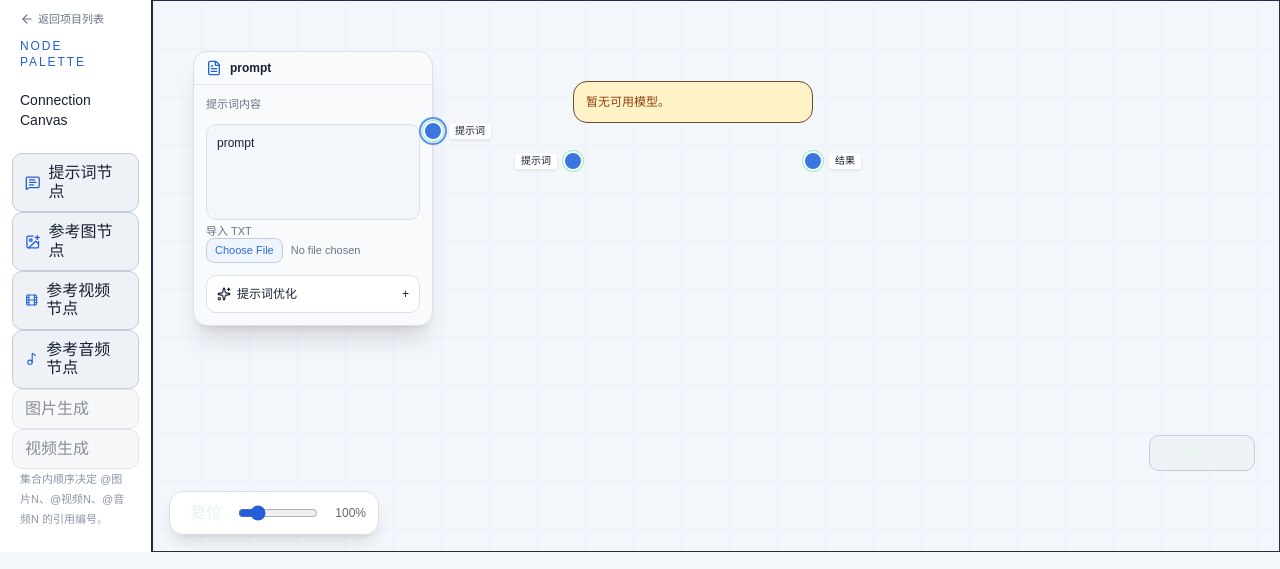
canvas named-port interactions › clears a pending source immediately when the source node is deleted
The image size is (1280, 569).
Click the button with aria-label "prompt：提示词输出端口" at (433, 131), box [423,121,443,141]
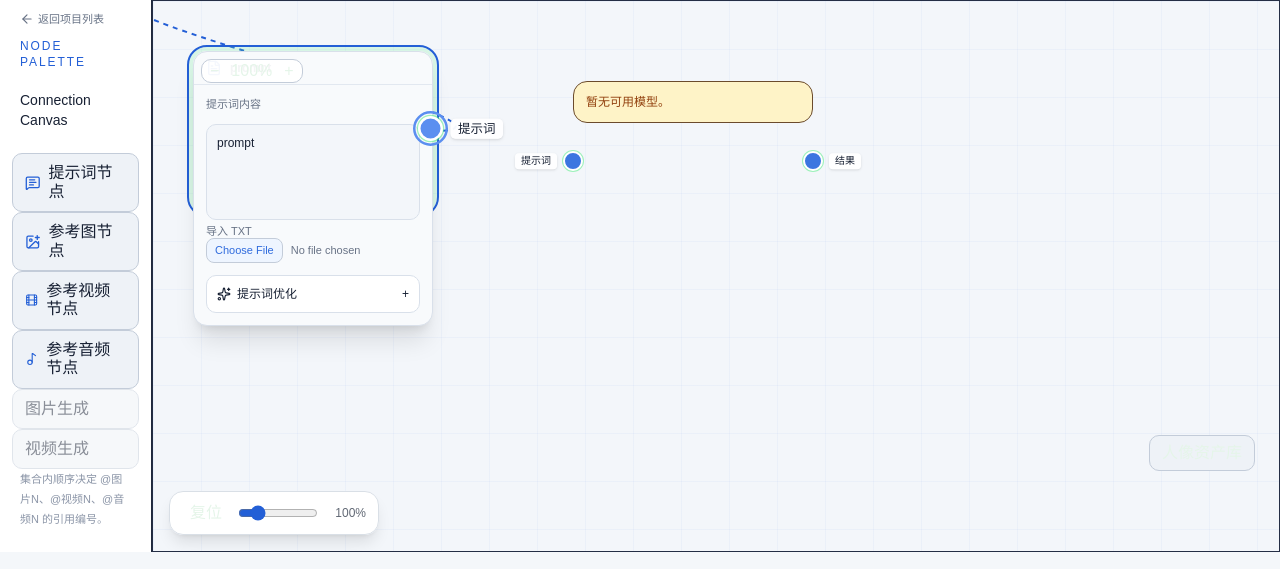
Press Delete
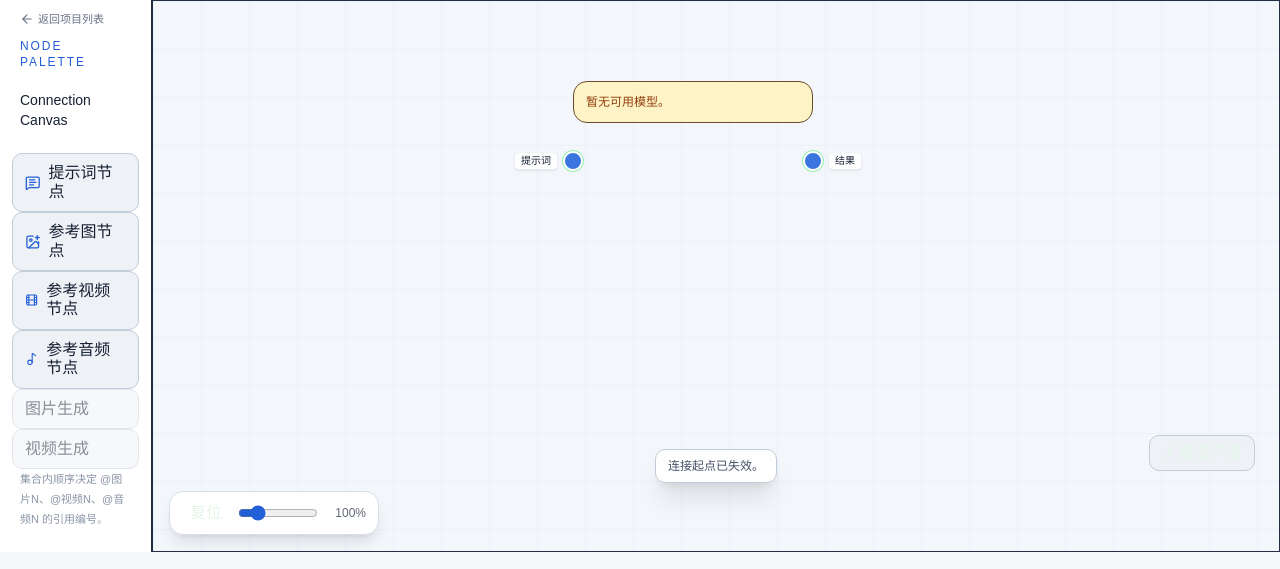
Expected: the message with test id "connection-status" reads "连接起点已失效。", [668,459,764,473]
